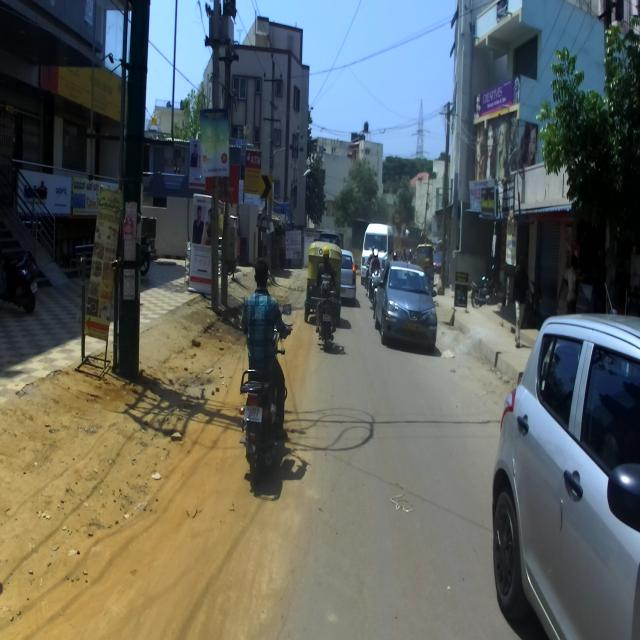car ahead at: (492, 313, 640, 640), (371, 257, 441, 356)
electric pole ahead at: (117, 0, 154, 403)
motorcycle ahead at: (237, 360, 297, 485)
